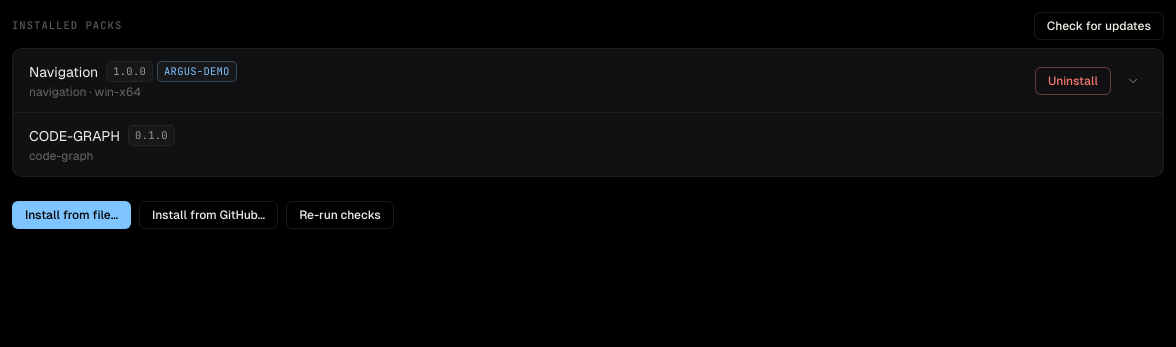
Scenario: PacksSettings › keeps a pack’s analysis tools collapsed until the disclosure is opened
Expected: the text "Demo tool" is not shown
Click the button named "Expand tools · navigation".
click(1133, 80)  # box [1119,66,1147,94]
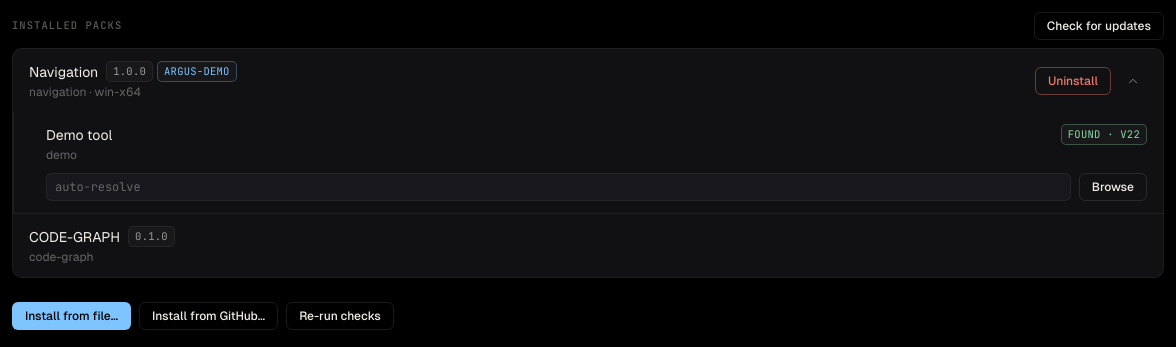
Now the text "Demo tool" is shown, box [46,127,112,143]
Now the text "found · v22" is shown, box [1061,124,1147,145]
